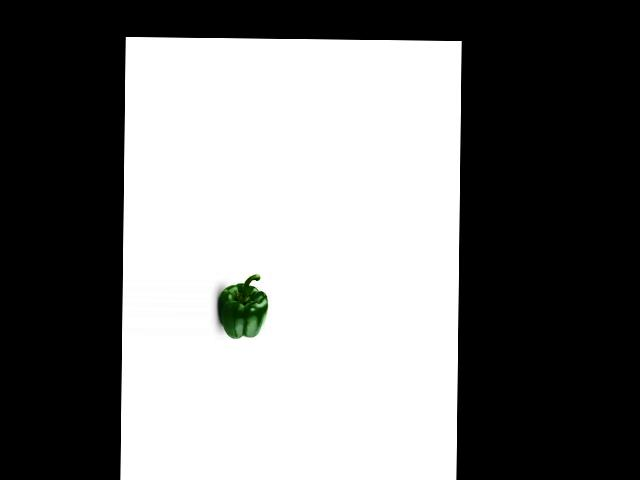bell_pepper: (219, 272, 269, 340)
